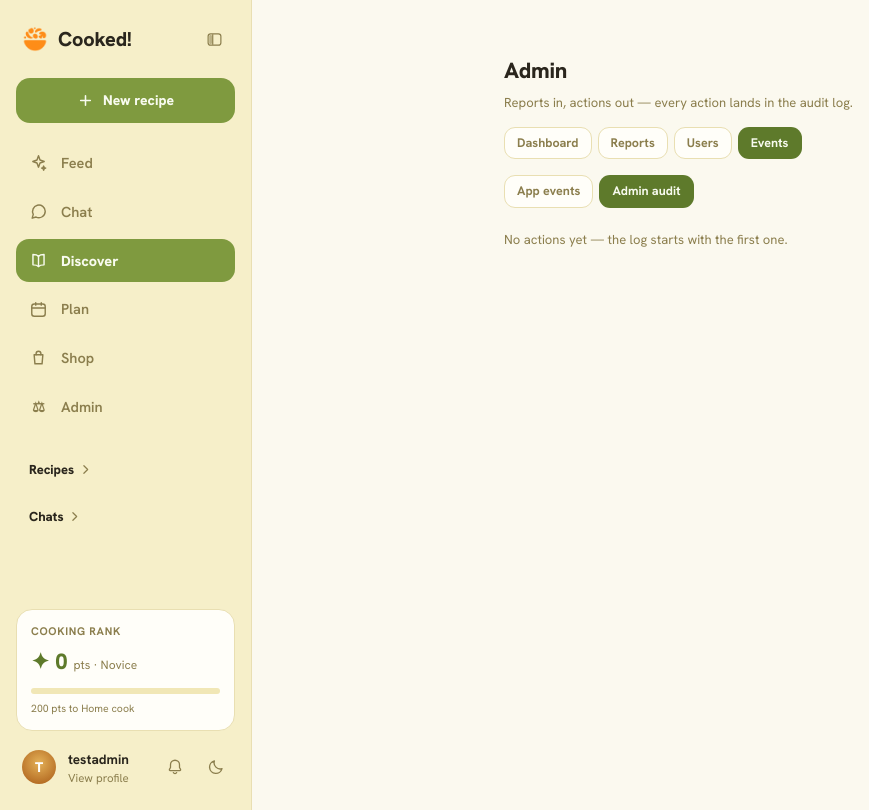
Test: AdminEventsTab — events pane › shows the empty state when there are no events
The width and height of the screenshot is (869, 810).
Click the button "App events" at (549, 192), box [504,175,593,208]
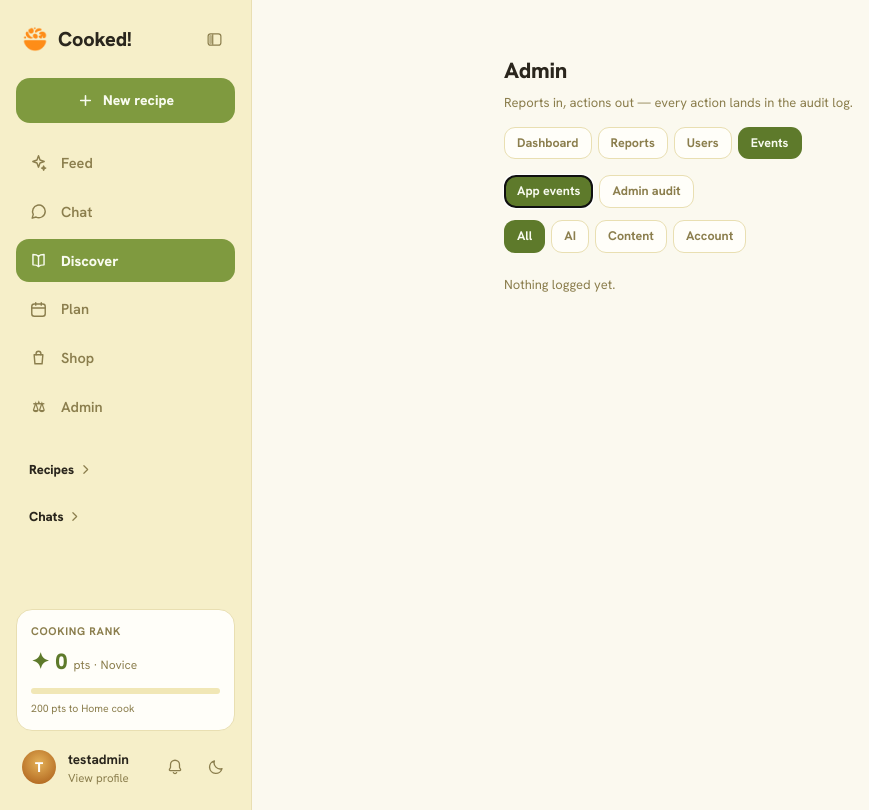
Check: the text "Nothing logged yet." is shown, box [504,276,615,293]
